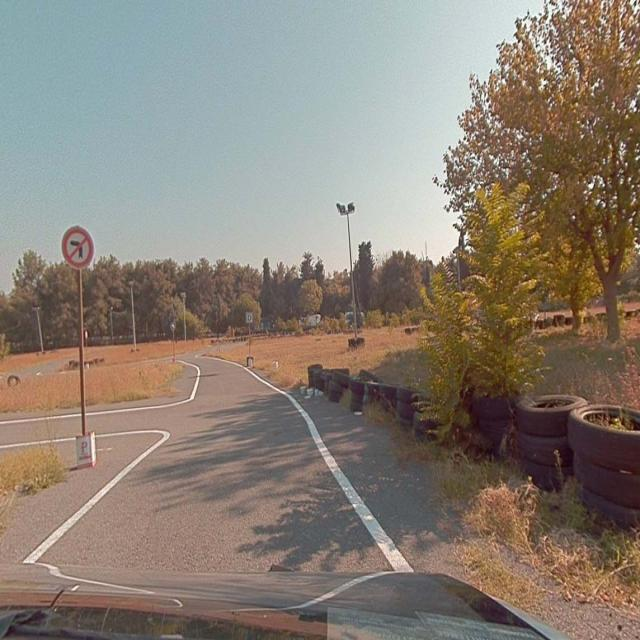durak: (246, 312, 252, 324)
soladonulmez: (63, 226, 93, 266)
